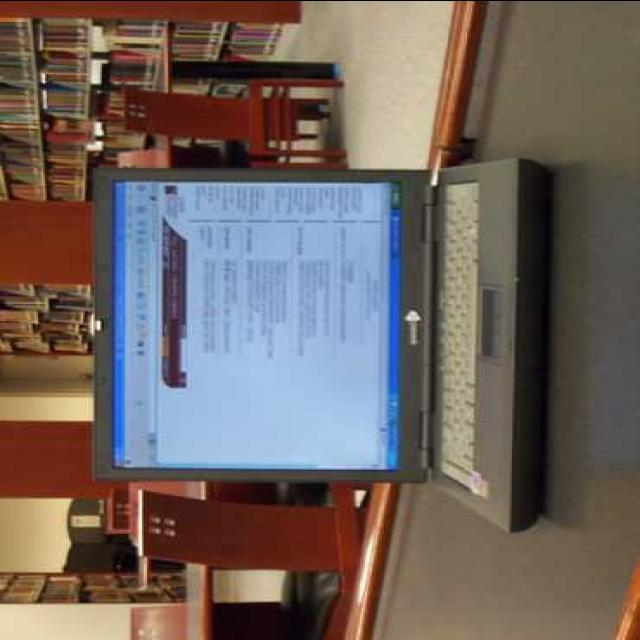laptop: (88, 155, 594, 514)
